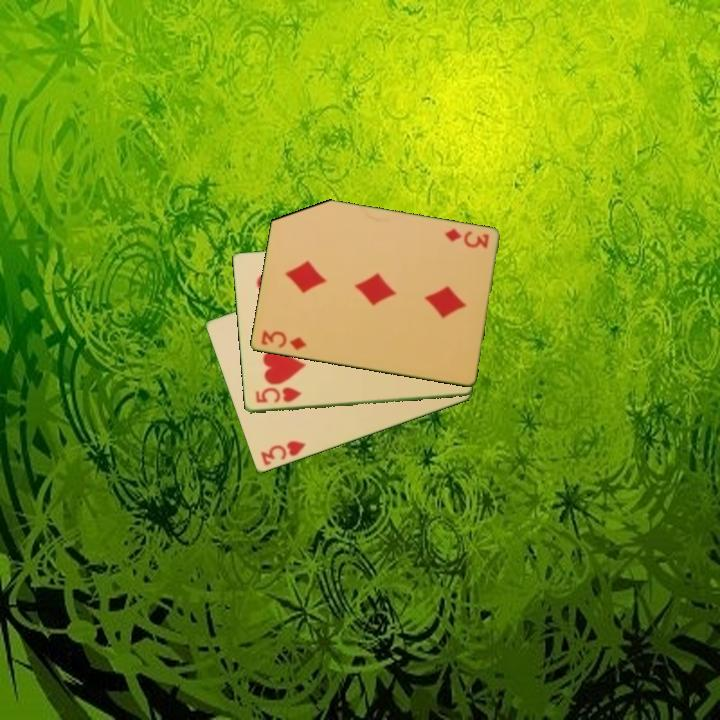3d: (257, 327, 309, 353), (440, 225, 492, 251)
3h: (257, 437, 309, 469)
5h: (252, 384, 304, 406)
